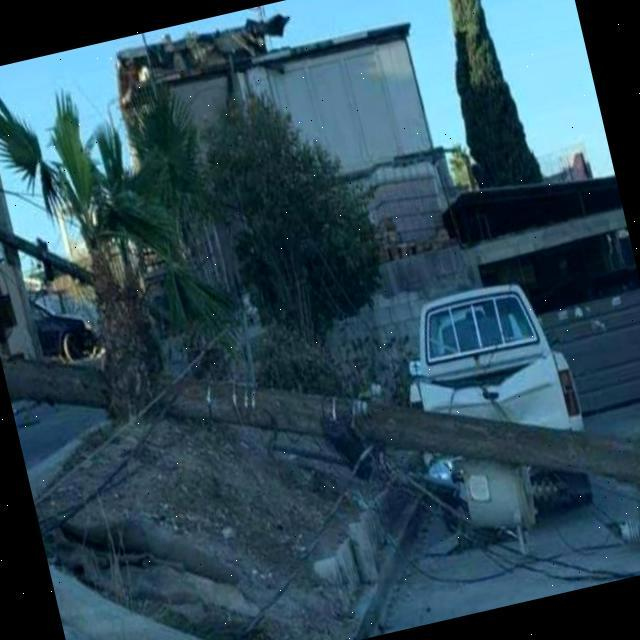Broken Pole: (1, 352, 640, 548)
